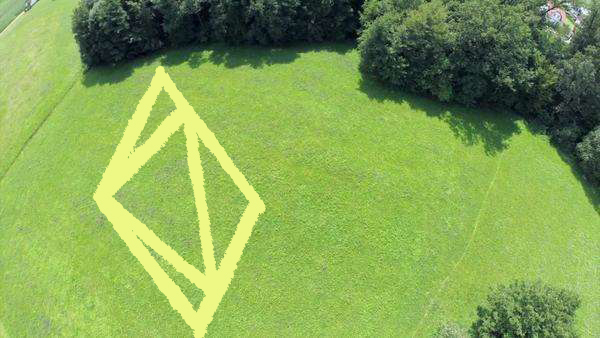marker: (88, 60, 271, 338)
